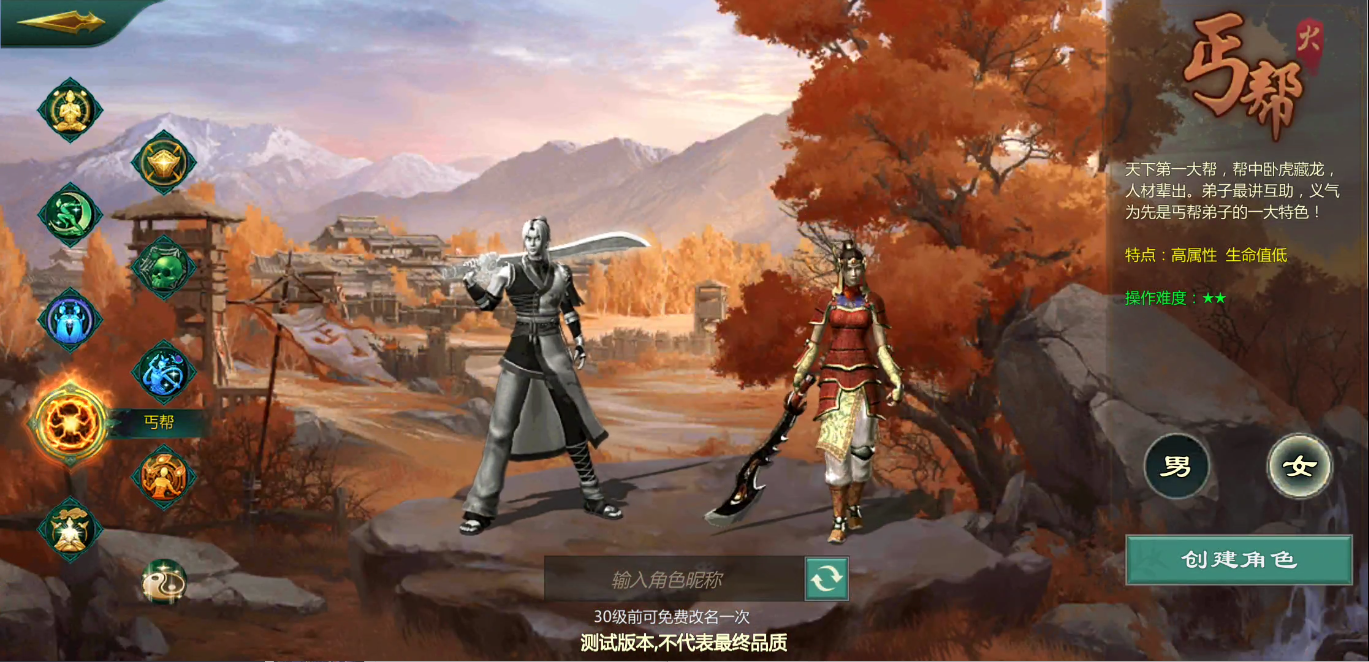cuiyan: (128, 338, 201, 408)
emei: (39, 284, 104, 354)
kunlun: (134, 553, 193, 611)
name: (805, 558, 849, 601)
shaolin: (36, 74, 108, 146)
tangmen: (36, 181, 108, 251)
tianren: (128, 443, 196, 514)
tianwang: (129, 129, 198, 199)
wudang: (34, 496, 106, 568)
wudu: (126, 231, 199, 304)
